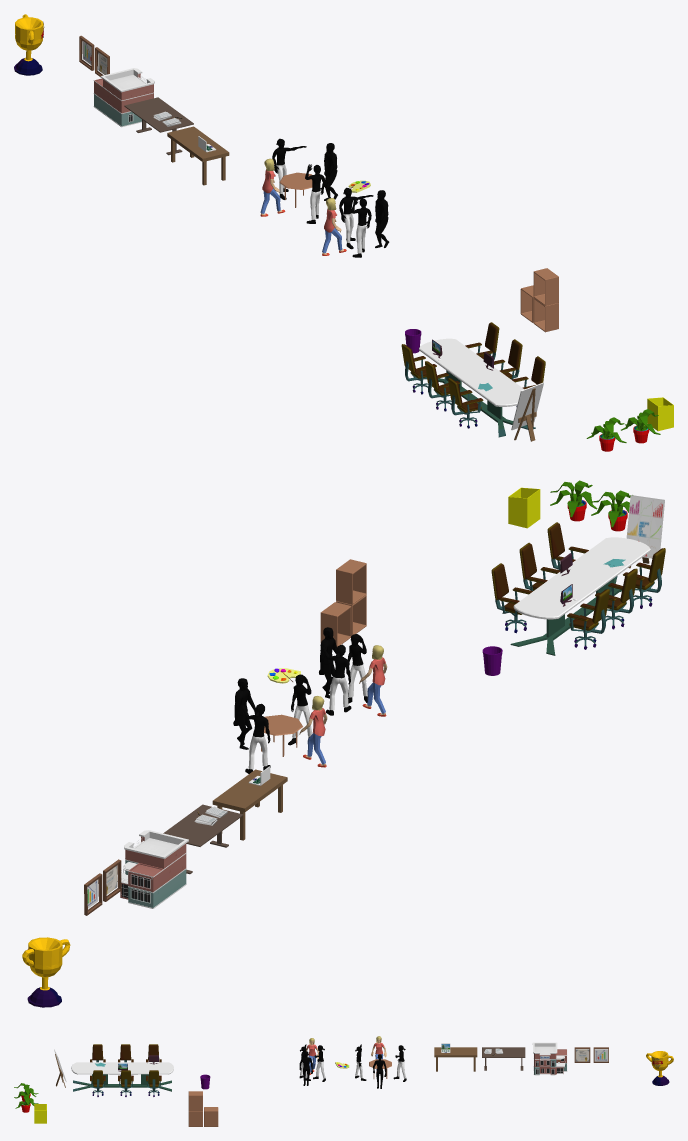
File: 10 props.fbx
The picture shows the model from 3 angles, top to bottom: view 1: azimuth 30°, elevation 25°; view 2: azimuth 150°, elevation 25°; view 3: azimuth 270°, elevation 25°; orthographic projection. The views are drawn at different scales.
Visible parts, largest first — view 1: meeting_room, talking_crowd_around_table, talking_crowd, school, laptop_on_a_desk, desk_with_pen_and_papers, trophy; view 2: meeting_room, talking_crowd_around_table, school, talking_crowd, laptop_on_a_desk, trophy, desk_with_pen_and_papers; view 3: meeting_room, school, talking_crowd_around_table, talking_crowd, laptop_on_a_desk, desk_with_pen_and_papers, trophy, employ_frame, chart_graph.
Part boxes in pixels (x1,y1,x2,y2): meeting_room: [401, 268, 673, 451]; talking_crowd_around_table: [260, 138, 337, 223]; talking_crowd: [322, 187, 389, 257]; school: [93, 68, 154, 127]; laptop_on_a_desk: [167, 126, 229, 185]; desk_with_pen_and_papers: [124, 97, 193, 155]; trophy: [14, 14, 44, 75]; meeting_room: [320, 480, 665, 675]; talking_crowd_around_table: [233, 674, 327, 773]; school: [117, 830, 188, 908]; talking_crowd: [319, 627, 387, 716]; laptop_on_a_desk: [212, 766, 287, 840]; trophy: [22, 937, 70, 1007]; desk_with_pen_and_papers: [163, 804, 243, 874]; meeting_room: [14, 1044, 218, 1126]; school: [532, 1042, 567, 1075]; talking_crowd_around_table: [355, 1036, 406, 1088]; talking_crowd: [299, 1038, 325, 1085]; laptop_on_a_desk: [434, 1043, 477, 1071]; desk_with_pen_and_papers: [482, 1047, 525, 1070]; trophy: [646, 1051, 673, 1085]; employ_frame: [574, 1047, 590, 1062]; chart_graph: [593, 1047, 608, 1062].
Bounding box in the file's own units: 1595 × 727 × 8275.
32 materials, 11 textured.
